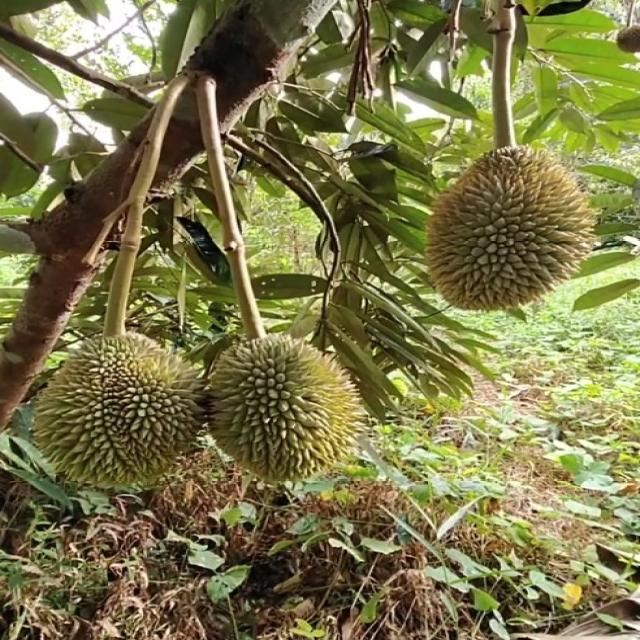immature: (27, 334, 214, 492), (426, 146, 594, 316), (199, 335, 371, 484)
